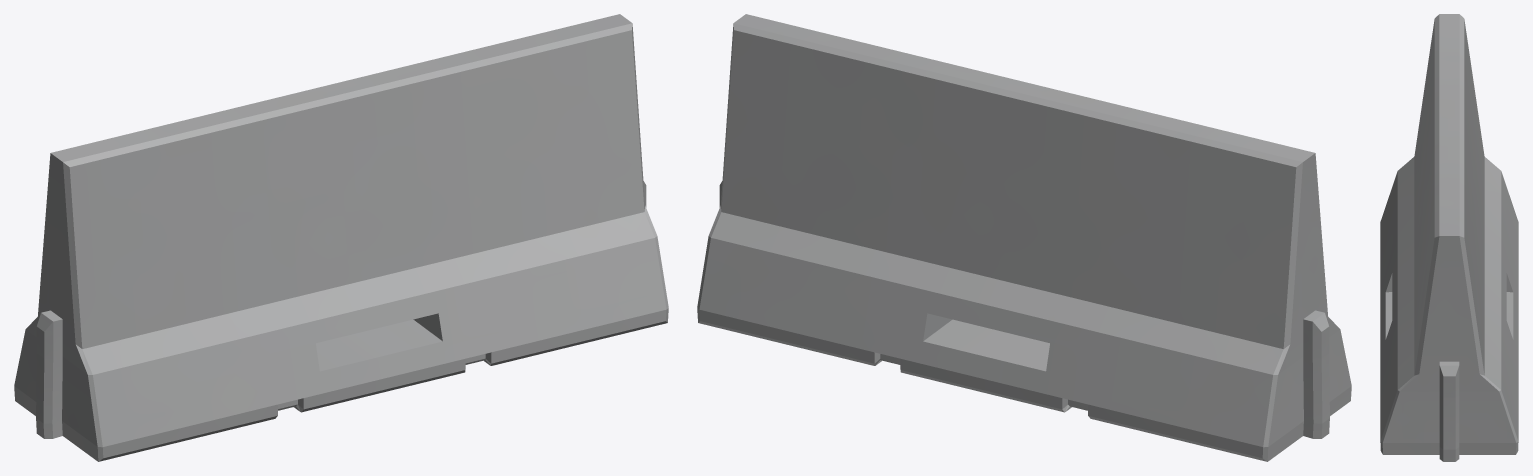
File: road_barier_2b.dae
3 views of the same model, side by side, from view 1: azimuth 30°, elevation 25°; view 2: azimuth 150°, elevation 25°; view 3: azimuth 270°, elevation 25° (orthographic). The views are drawn at different scales.
Visible parts, largest first — view 1: road_barier_2b; view 2: road_barier_2b; view 3: road_barier_2b.
Boxes of the visible parts, x1,y1,x2,y2 form: road_barier_2b: (14, 14, 668, 461); road_barier_2b: (697, 14, 1351, 461); road_barier_2b: (1380, 14, 1518, 461).
Size of the model in its own units: 3.46 by 0.8571 by 1.5.
Materials: 1 (1 with a texture image).
